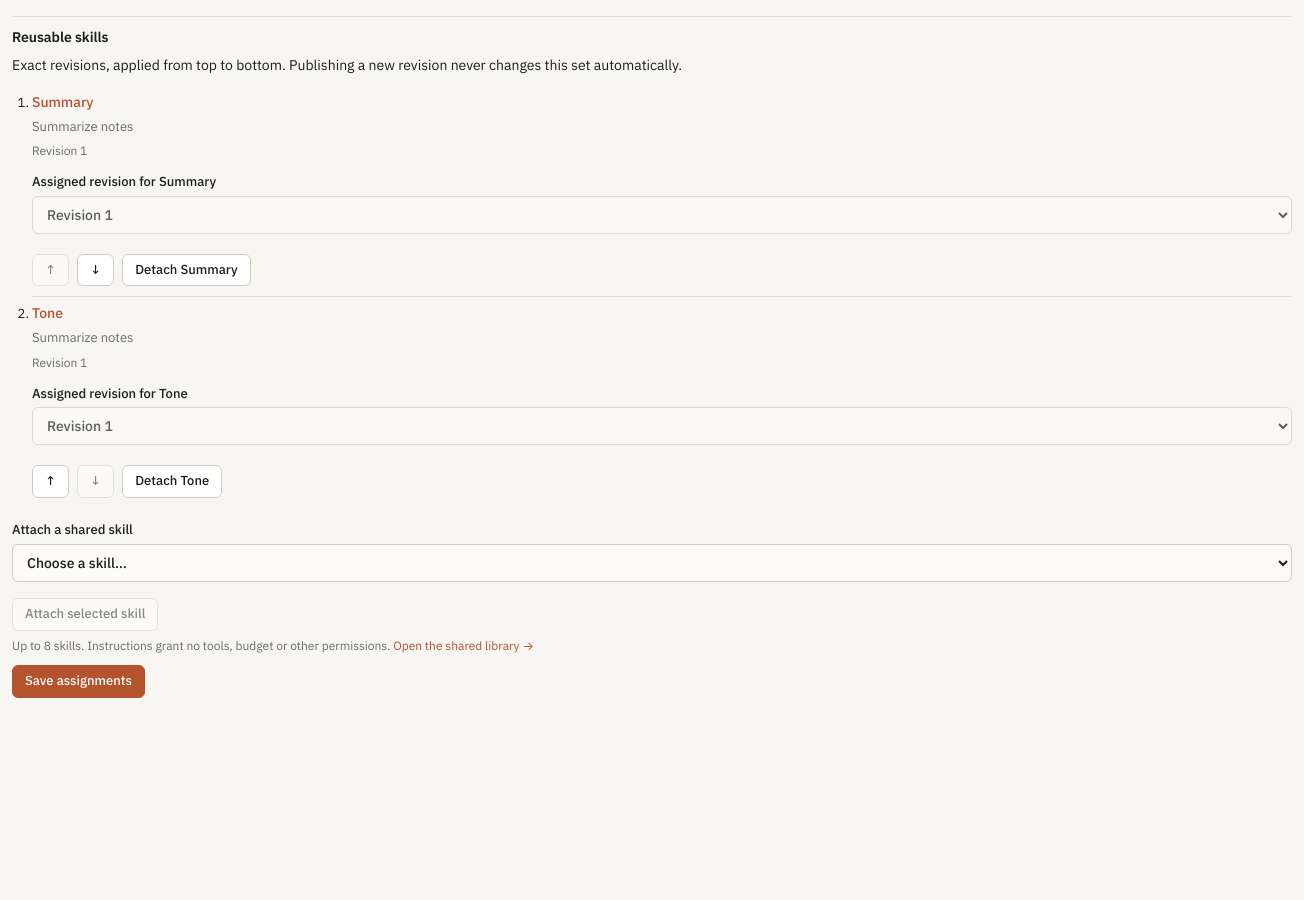
Scenario: preserves a reordered draft when another editor changes assignments
The width and height of the screenshot is (1304, 900).
Step 1. Click the button named "Move Tone up" → coordinates (51, 482), box [32,465,69,498]
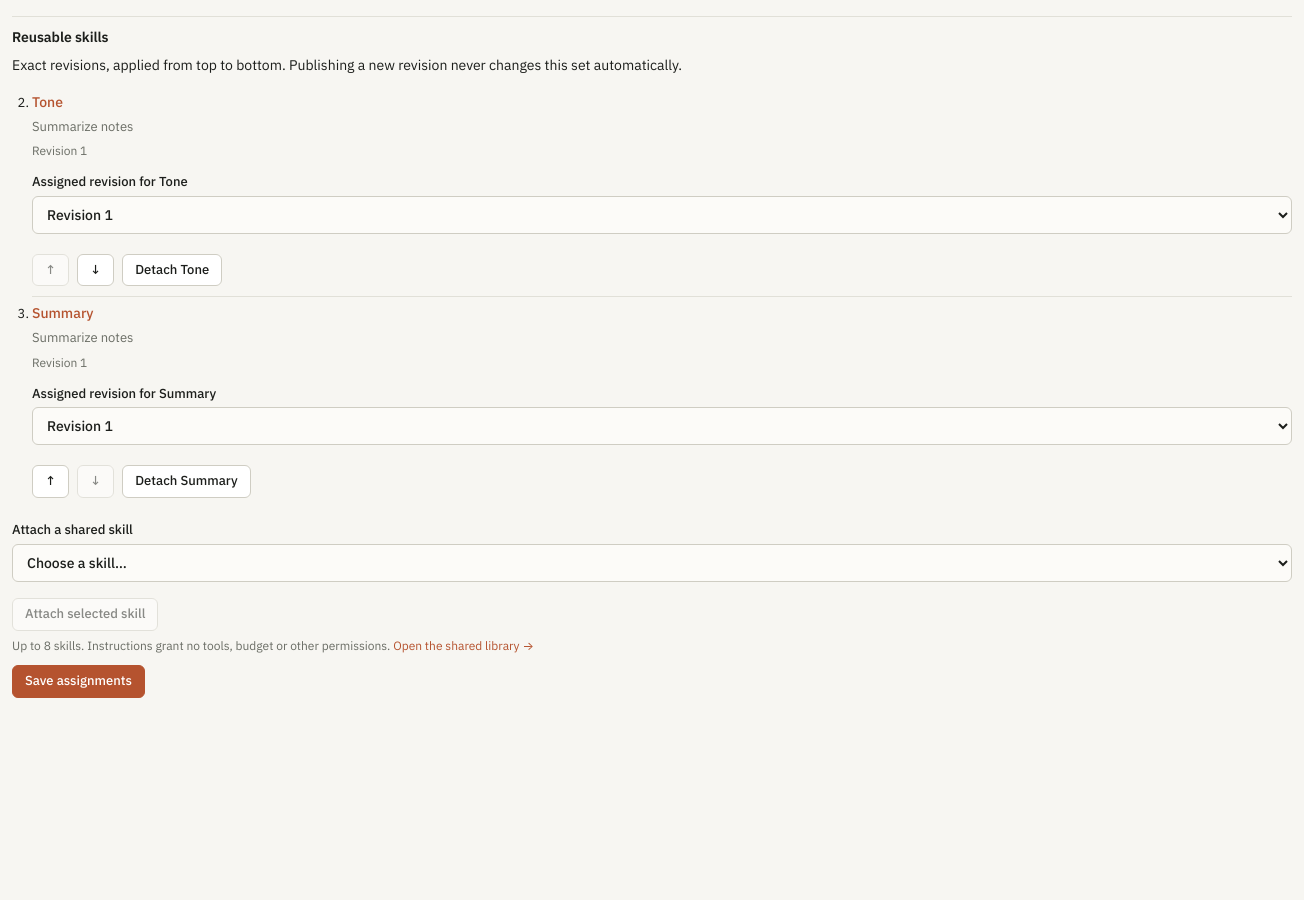
Step 2. Click the button "Save assignments" → coordinates (78, 681), box [12,665,145,698]
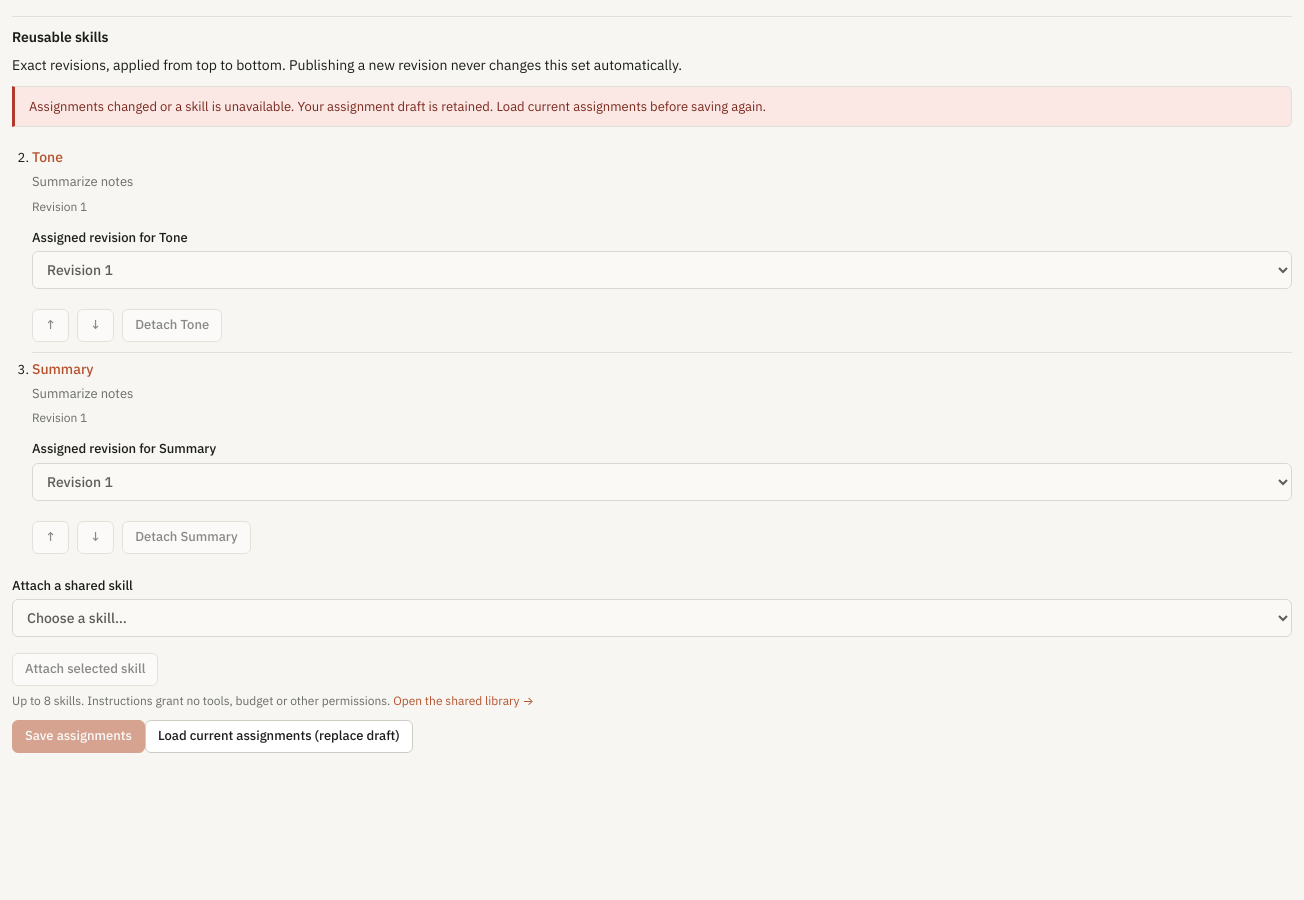
Expected: the list item that starts with "Tone" is shown, [32,148,63,166]
Result: the text "Your assignment draft is retained" is shown at [29,98,766,114]
